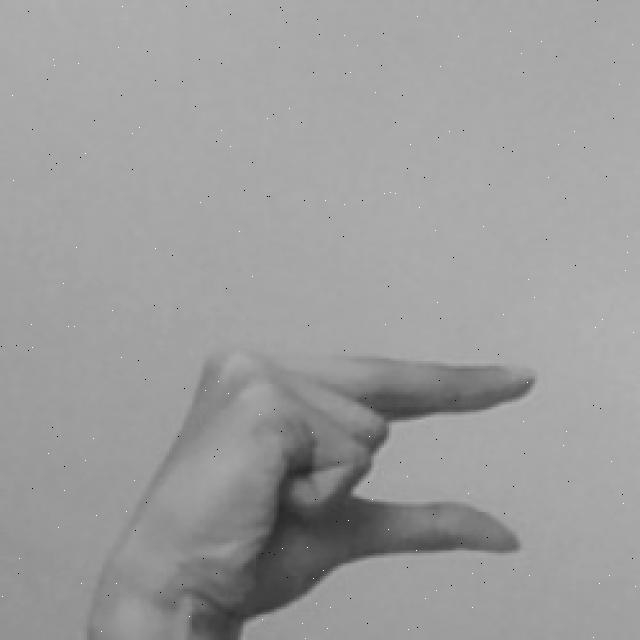G: (82, 330, 540, 640)
